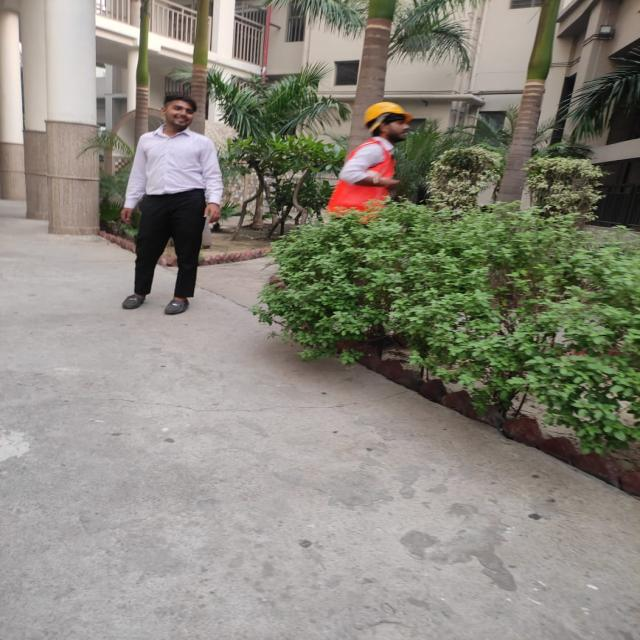safe: (326, 101, 414, 232)
unsafe: (124, 90, 224, 316)
